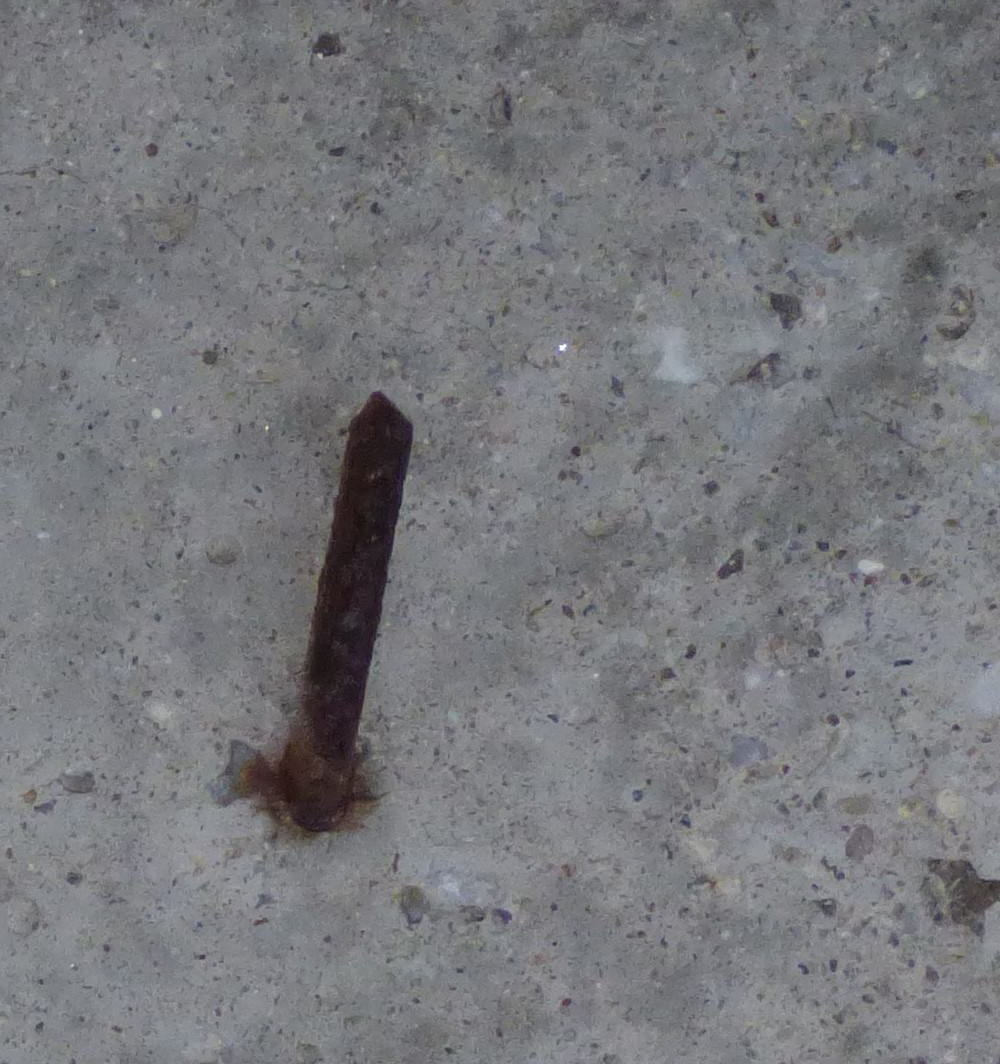Exposed reinforcement: (278, 390, 414, 813)
